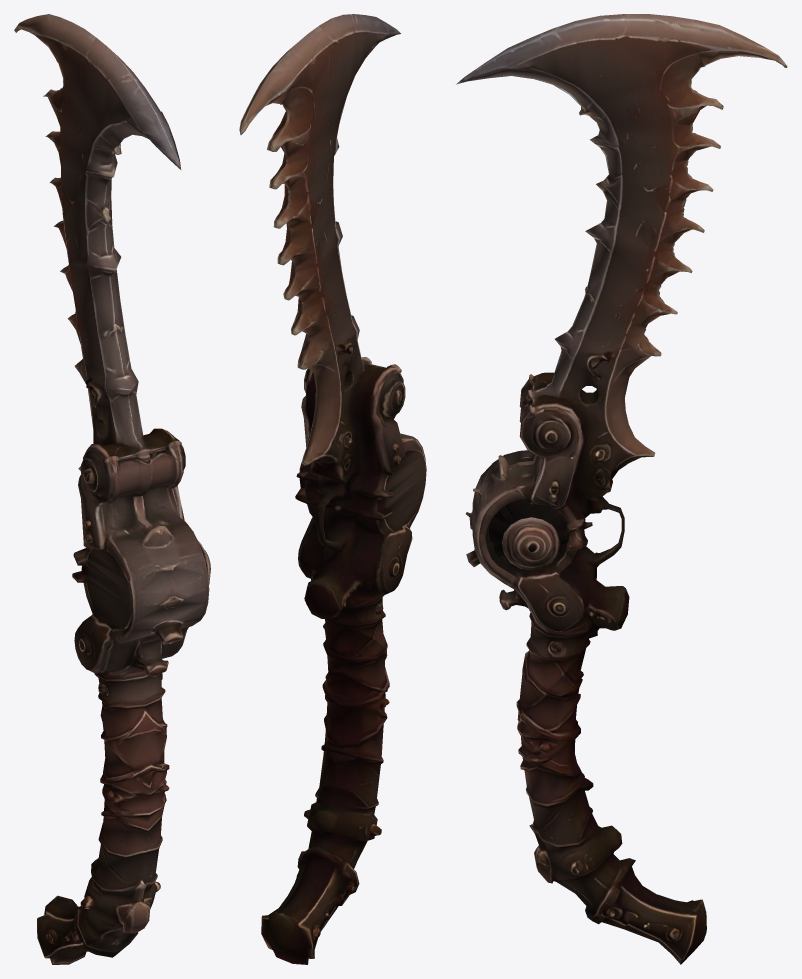
Rendered from cleaver.glb.
3 views of the same model, side by side, from view 1: azimuth 30°, elevation 25°; view 2: azimuth 150°, elevation 25°; view 3: azimuth 270°, elevation 25° (orthographic). The views are drawn at different scales.
Parts seen in each view (by area): view 1: tripo_node_d7d57440-4f90-4fee-bed7-c4d4be6ae83f; view 2: tripo_node_d7d57440-4f90-4fee-bed7-c4d4be6ae83f; view 3: tripo_node_d7d57440-4f90-4fee-bed7-c4d4be6ae83f.
Boxes of the visible parts, <box> form: tripo_node_d7d57440-4f90-4fee-bed7-c4d4be6ae83f: <box>14,14,210,964</box>; tripo_node_d7d57440-4f90-4fee-bed7-c4d4be6ae83f: <box>239,14,426,964</box>; tripo_node_d7d57440-4f90-4fee-bed7-c4d4be6ae83f: <box>456,14,787,964</box>.
Bounding box in the file's own units: 0.1226 × 1 × 0.318.
Materials: 1 (1 with a texture image).
